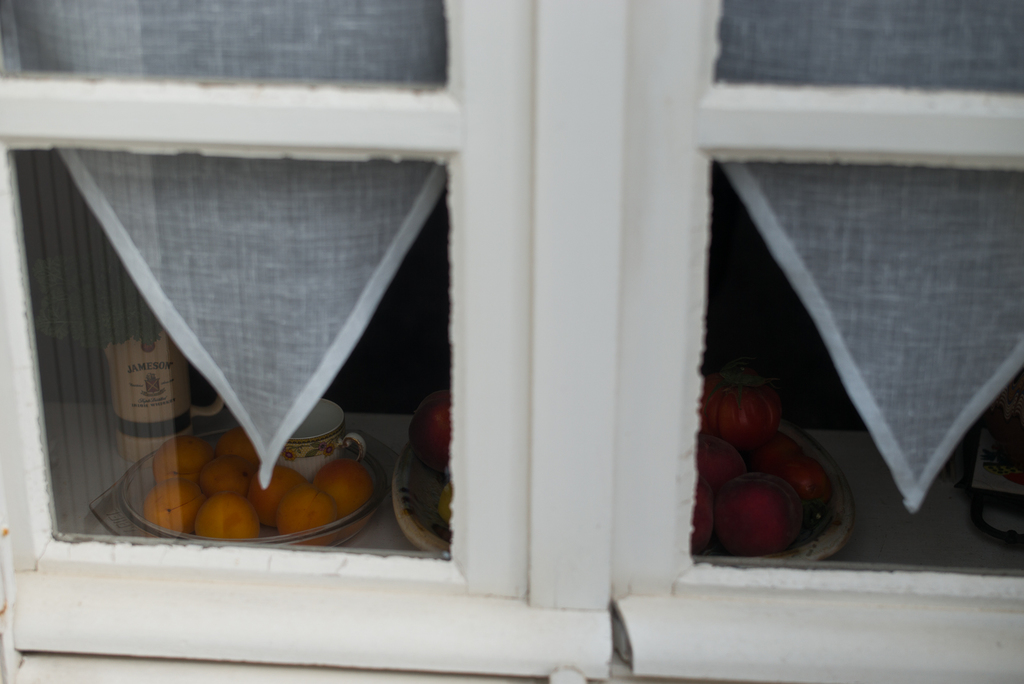Ripe: (143, 438, 374, 541)
